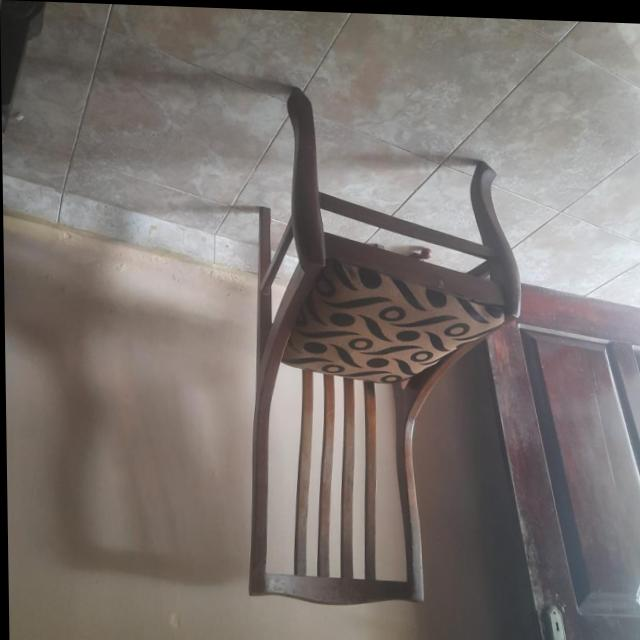Chair: (238, 85, 525, 611)
